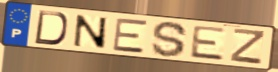D: (32, 9, 69, 47)
E: (189, 24, 229, 62), (111, 17, 149, 55)
N: (73, 13, 109, 51)
S: (150, 20, 190, 59)
Z: (228, 27, 267, 67)
